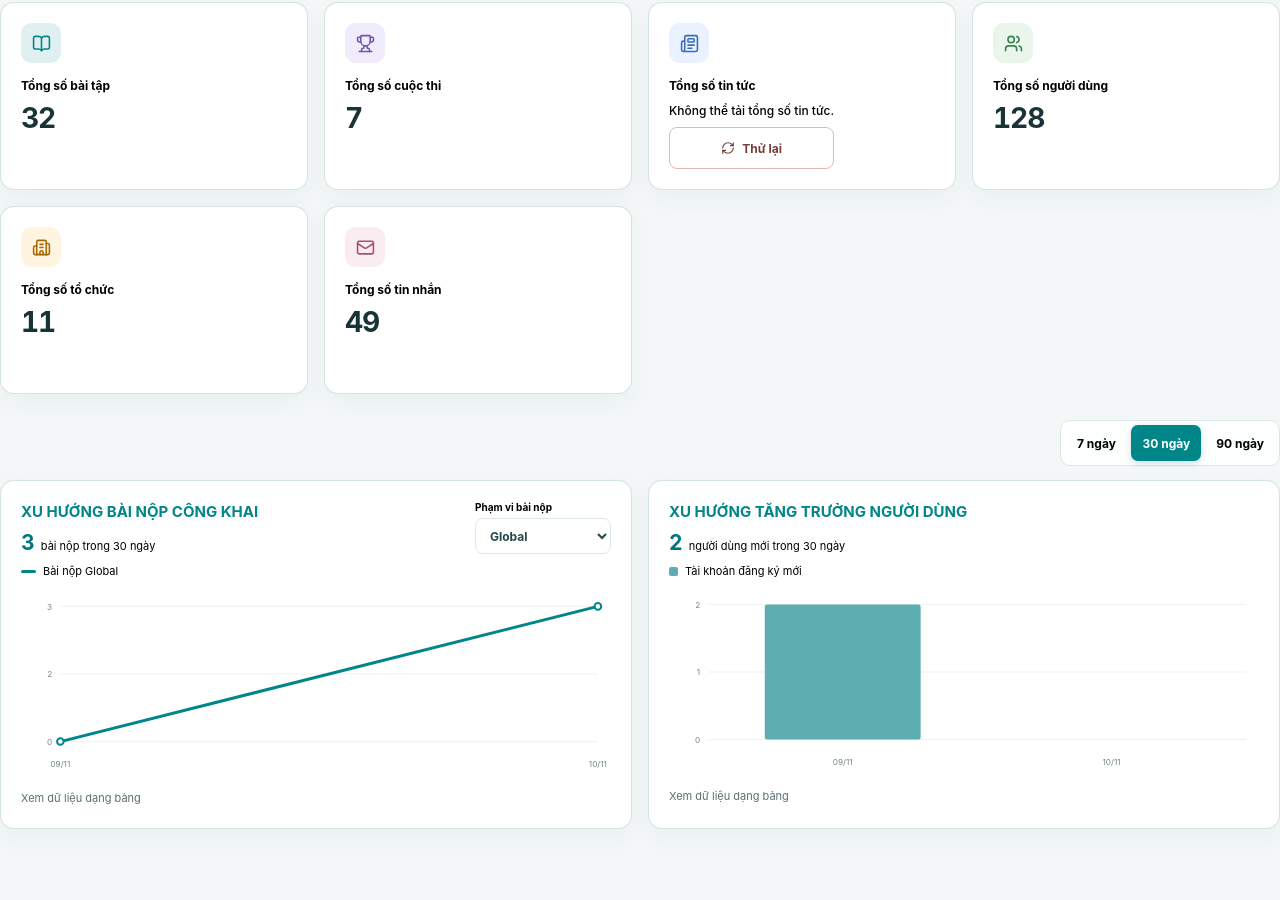
Test: AdminDashboardPage › keeps other metrics visible when one request fails and retries that metric
Expected: the message "Không thể tải tổng số tin tức." is shown, [669, 102, 834, 119]
Expected: the element named "Chỉ số tổng quan" shows "128", [993, 101, 1044, 135]
Step 1. Click the button with aria-label "Thử tải lại tổng số tin tức" → (752,148), box [669, 127, 834, 169]
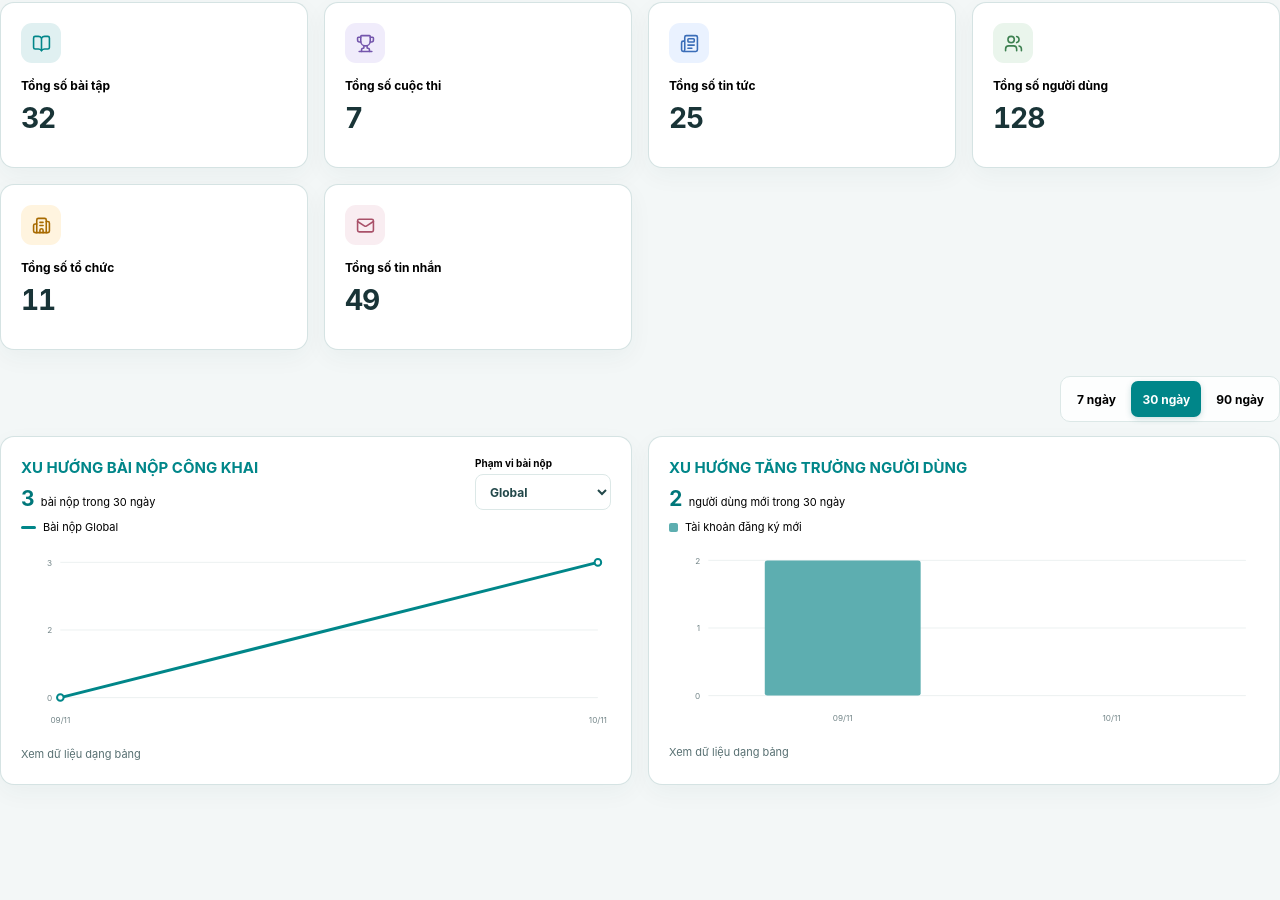
Result: the message "Không thể tải tổng số tin tức." is gone
Result: the text "25" is shown at [669, 102, 703, 134]
